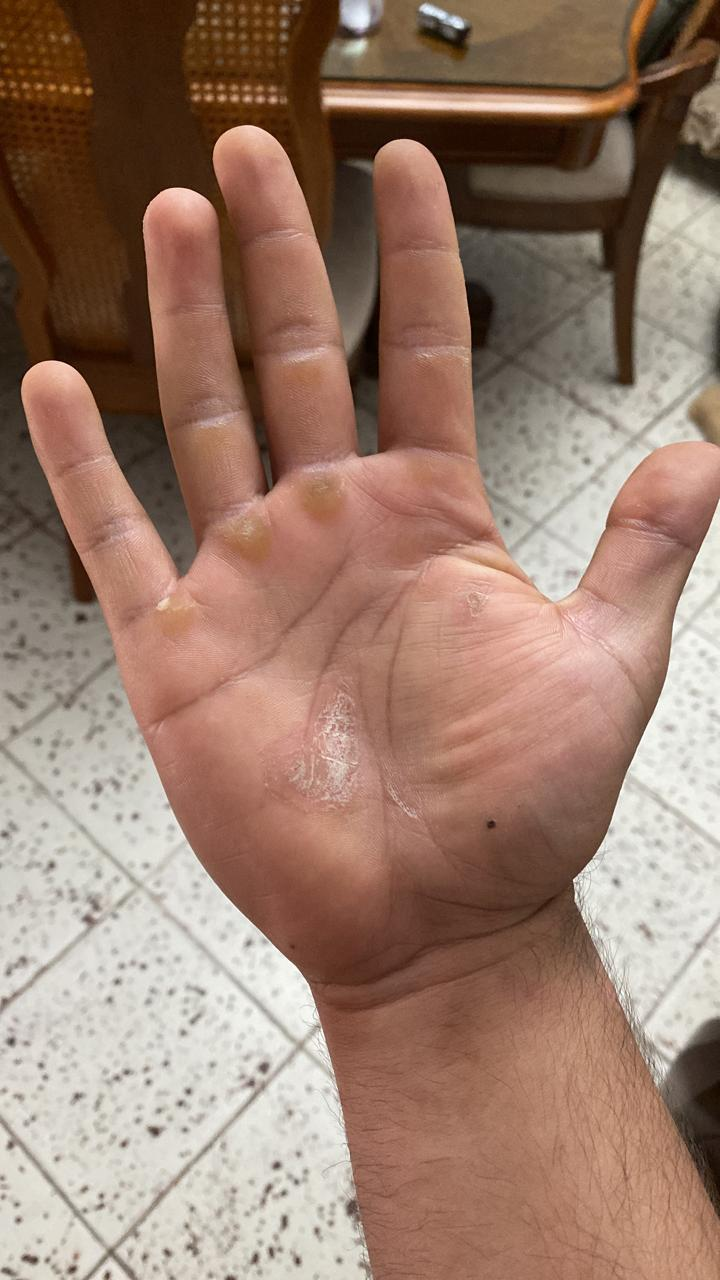Paper: (16, 103, 720, 993)
